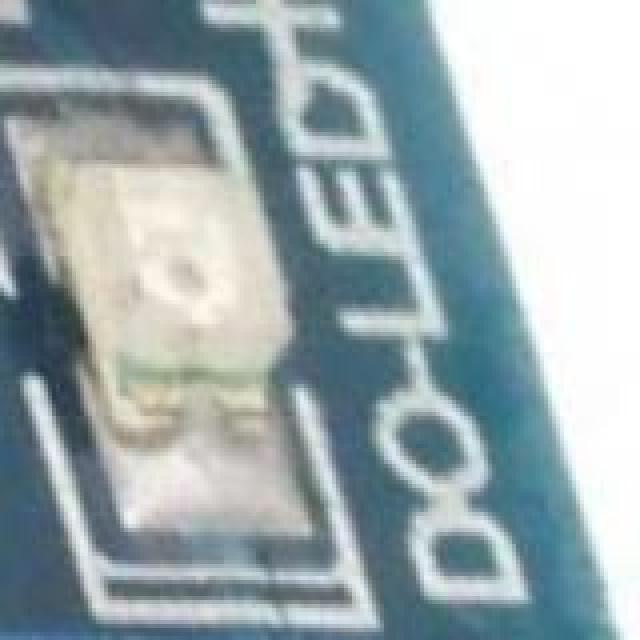LED: (64, 128, 302, 418)
potentiometer: (0, 568, 616, 640)
